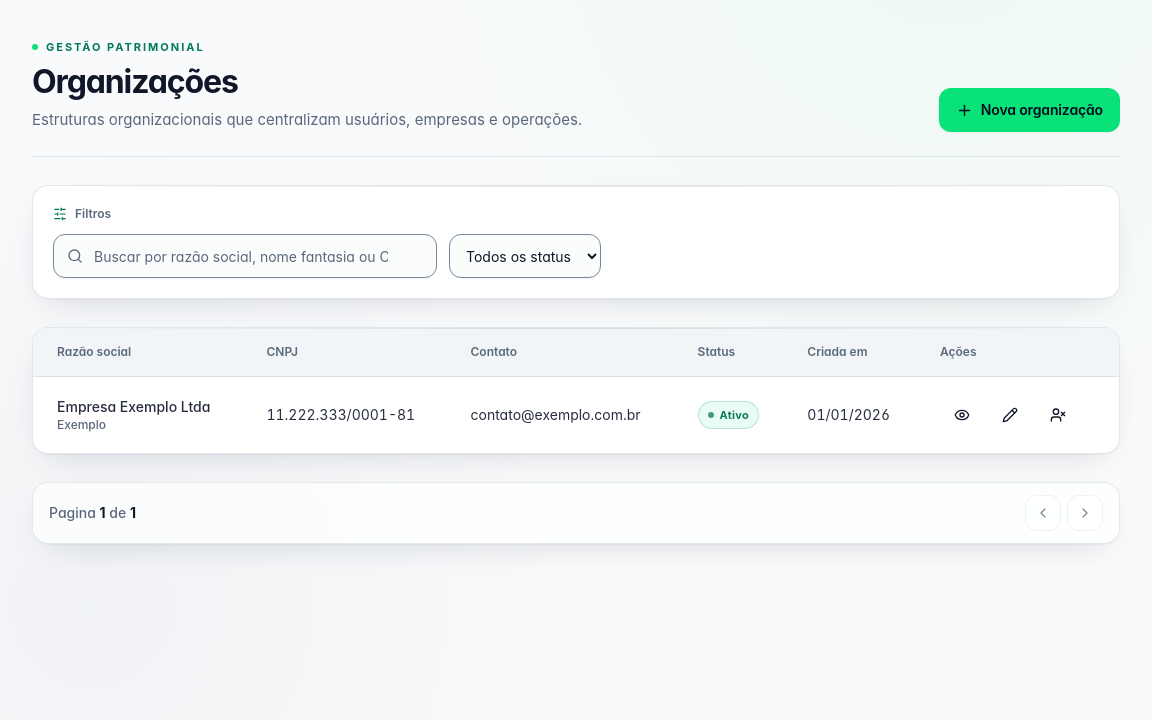
Test: OrganizationsPage › abre detalhes da organização
Click the button named "Visualizar organização".
click(962, 415)  # box [940,393,984,437]
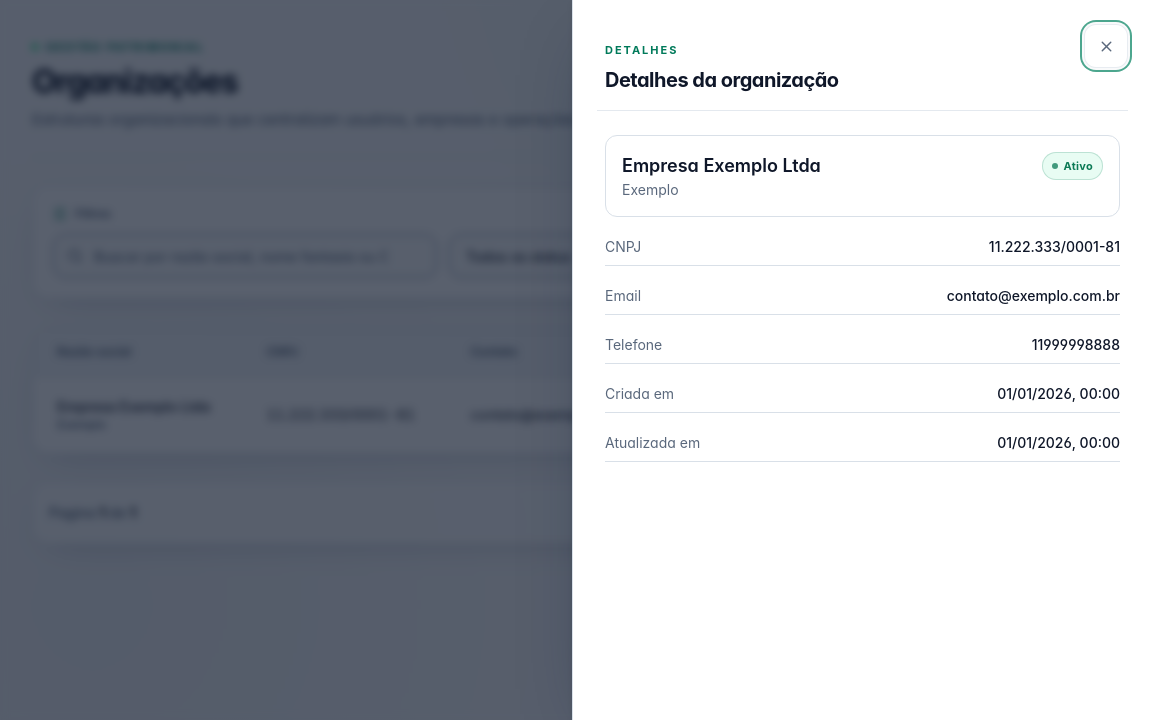
Now the heading "Detalhes da organização" is shown, box [605,68,839,92]
